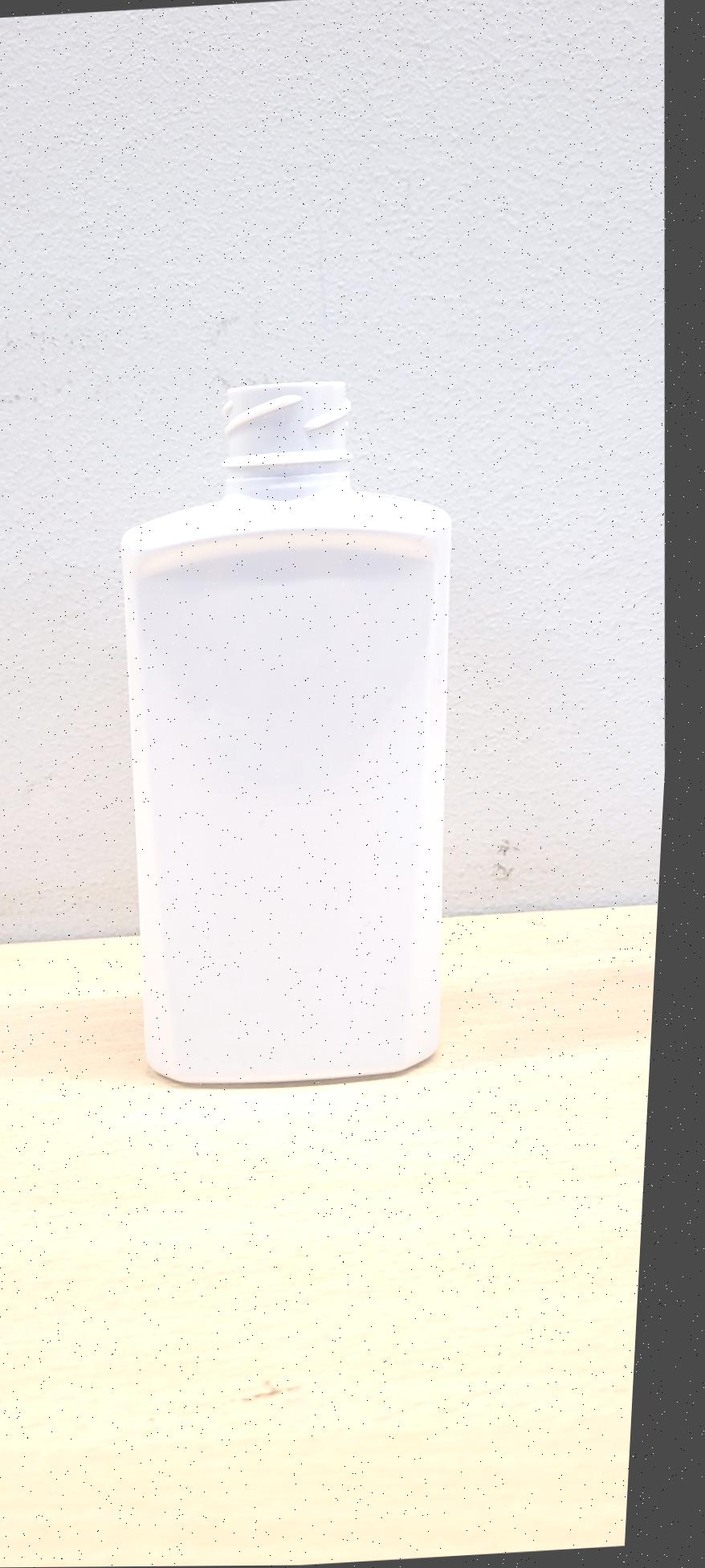bottle: (123, 379, 451, 1084)
